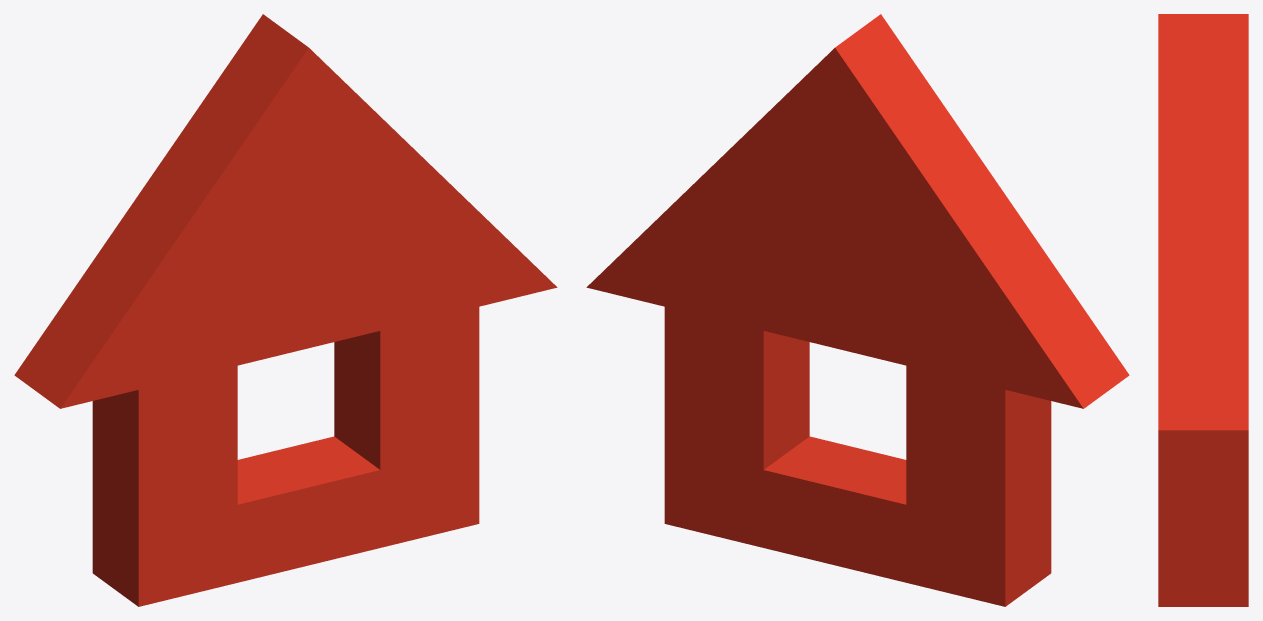
The model's file is Icon_House_01.fbx.
The picture shows the model from 3 angles, left to right: view 1: azimuth 30°, elevation 25°; view 2: azimuth 150°, elevation 25°; view 3: azimuth 270°, elevation 25°; orthographic projection.
Parts seen in each view (by area): view 1: Icon_House_01; view 2: Icon_House_01; view 3: Icon_House_01.
Boxes of the visible parts, x1,y1,x2,y2 form: Icon_House_01: (14,14,557,606); Icon_House_01: (586,14,1129,606); Icon_House_01: (1158,14,1248,606).
Size of the model in its own units: 75.44 by 75.04 by 12.06.
